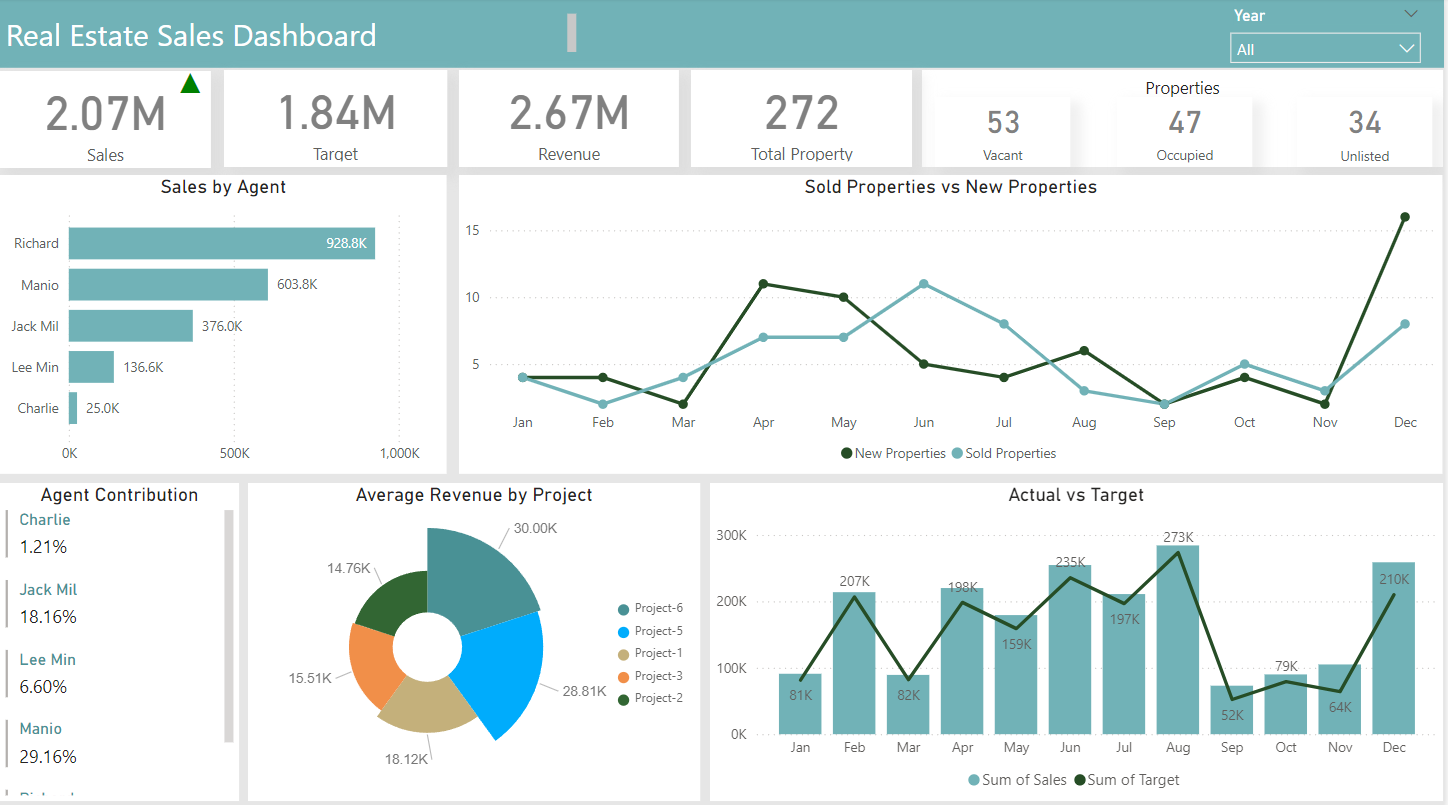

This screenshot's page, from the dashboard's own definition file:
{"tool":"powerbi","page":{"name":"Home","canvas":[1280,720],"ordinal":0},"visuals":[{"type":"shape","box":[0,0,1280.5,61.9],"z":0},{"type":"textbox","box":[0,8.4,516.2,44.6],"z":1000},{"type":"card","fields":{"Values":["Real Estate Data.Sales"]},"box":[0,64.7,186.8,85.7],"z":2000},{"type":"card","fields":{"Values":["Real Estate Data.Target"]},"box":[198.7,64.3,197.6,85.7],"z":3000},{"type":"card","fields":{"Values":["Real Estate Data.Revenue"]},"box":[407,64.3,195.2,85.7],"z":4000},{"type":"textbox","box":[817.6,64.3,461.8,85.7],"z":5000},{"type":"card","fields":{"Values":["Real Estate Data.Total Property"]},"box":[612.9,64.3,196.4,85.7],"z":6000},{"type":"card","fields":{"Values":["Real Estate Data.Property Status"]},"box":[829.5,88.1,120.2,61.9],"z":7000},{"type":"card","fields":{"Values":["Real Estate Data.Occupied"]},"box":[990.1,88.1,120.2,61.9],"z":8000},{"type":"card","fields":{"Values":["Real Estate Data.Unlisting"]},"box":[1150,88,120,62],"z":9000},{"type":"barChart","title":"Sales by Agent","fields":{"Category":["Real Estate Data.Agent"],"Y":["Real Estate Data.Sales"]},"box":[0,157.1,396.3,265.4],"z":10000},{"type":"lineChart","title":"Sold Properties vs New Properties","fields":{"Category":["DimDate.Month Name"],"Y":["Real Estate Data.New Properties","Real Estate Data.Sold Properties"]},"box":[407,157.1,872.3,265.4],"z":11000},{"type":"multiRowCard","title":"Agent Contribution","fields":{"Values":["Real Estate Data.Agent","Real Estate Data.Agent Contribution"]},"box":[0,429.6,211.8,282],"z":12000},{"type":"AsterPlot1443303142064","title":"Average Revenue by Project","fields":{"Category":["Real Estate Data.Project Name"],"Y":["Real Estate Data.Revenue"]},"box":[220.2,429.6,401.1,282],"z":13000},{"type":"lineStackedColumnComboChart","title":"Actual vs Target","fields":{"Category":["DimDate.Month Name"],"Y":["Real Estate Data.Sales"],"Y2":["Real Estate Data.Target"]},"box":[629.6,429.6,649.8,282],"z":14000},{"type":"slicer","fields":{"Values":["DimDate.Date.Variation.Date Hierarchy.Year"]},"box":[1080.6,2.4,189.2,55.9],"z":15000},{"type":"card","fields":{"Values":["Real Estate Data.Icon Sales"]},"box":[146.4,57.1,44,36.9],"z":16000}]}

Visuals, with their boxes in screenshot pixels (x1, y1, x2, y2), scaled from the page's 1280x720 canvas onto the 1448x805 screenshot:
shape: 0, 0, 1447, 69
textbox: 0, 9, 584, 59
card - Real Estate Data.Sales: 0, 72, 211, 168
card - Real Estate Data.Target: 225, 72, 448, 168
card - Real Estate Data.Revenue: 460, 72, 681, 168
textbox: 925, 72, 1447, 168
card - Real Estate Data.Total Property: 693, 72, 916, 168
card - Real Estate Data.Property Status: 938, 99, 1074, 168
card - Real Estate Data.Occupied: 1120, 99, 1256, 168
card - Real Estate Data.Unlisting: 1301, 98, 1437, 168
"Sales by Agent" barChart: 0, 176, 448, 472
"Sold Properties vs New Properties" lineChart: 460, 176, 1447, 472
"Agent Contribution" multiRowCard: 0, 480, 240, 796
"Average Revenue by Project" AsterPlot1443303142064: 249, 480, 703, 796
"Actual vs Target" lineStackedColumnComboChart: 712, 480, 1447, 796
slicer - DimDate.Date.Variation.Date Hierarchy.Year: 1222, 3, 1436, 65
card - Real Estate Data.Icon Sales: 166, 64, 215, 105
